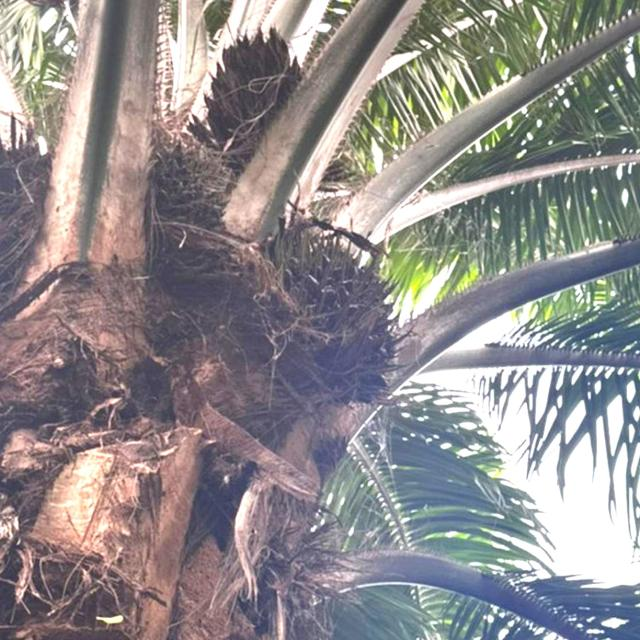ripe: (251, 218, 420, 424)
